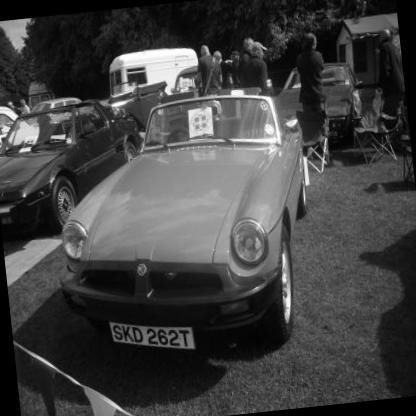car: (46, 83, 360, 375)
